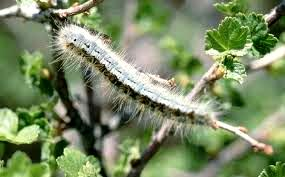Caterpillar: (58, 20, 215, 139)
